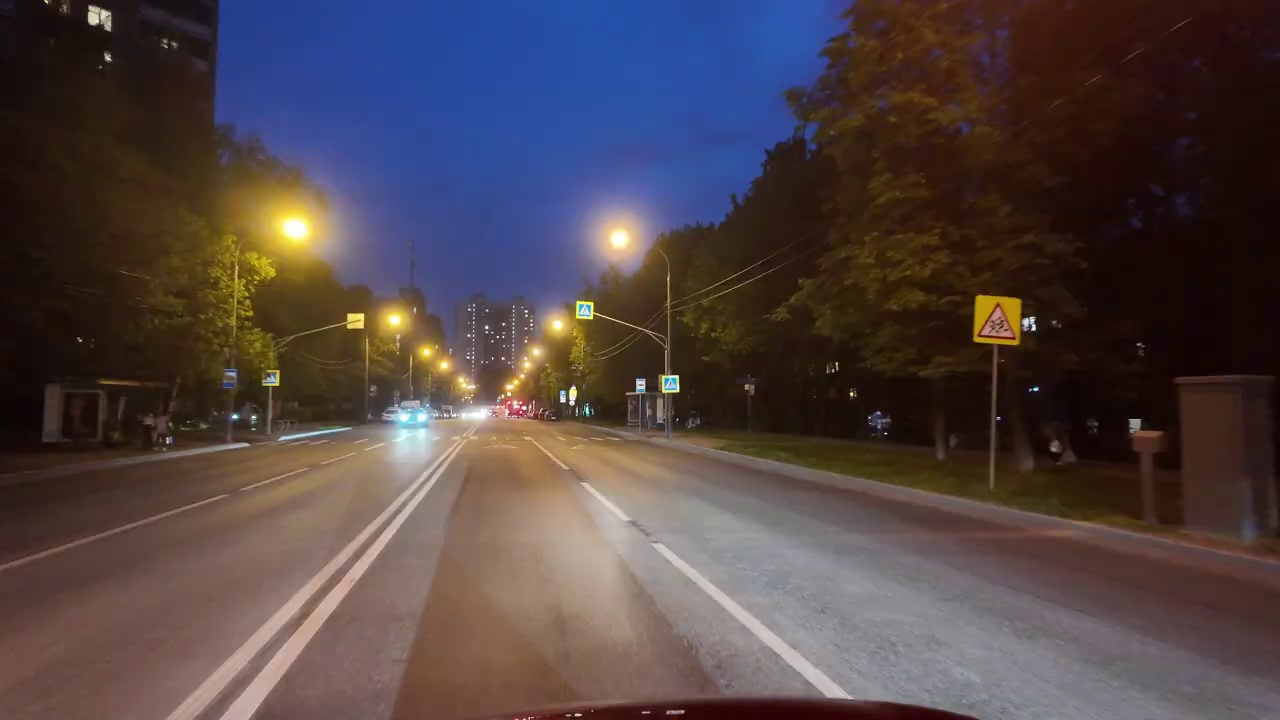acesa: (268, 206, 319, 254), (601, 220, 639, 259), (379, 305, 412, 334), (545, 310, 575, 339)
